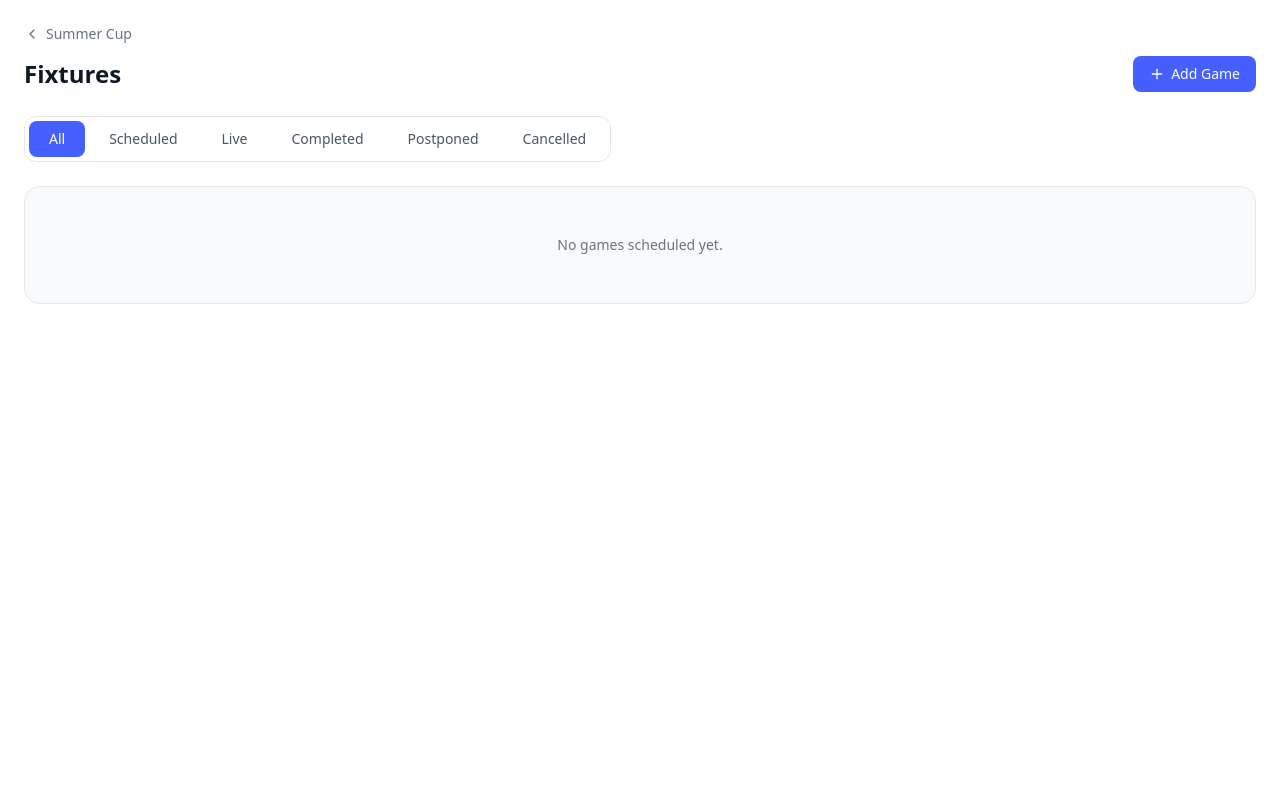
it: Fixtures: list › says there are no games scheduled yet, and Add Game opens the form
Expected: the text "No games scheduled yet." is shown, [557,235,723,254]
Click the button "Add Game". click: (1195, 74)
box: [1133,56,1256,92]
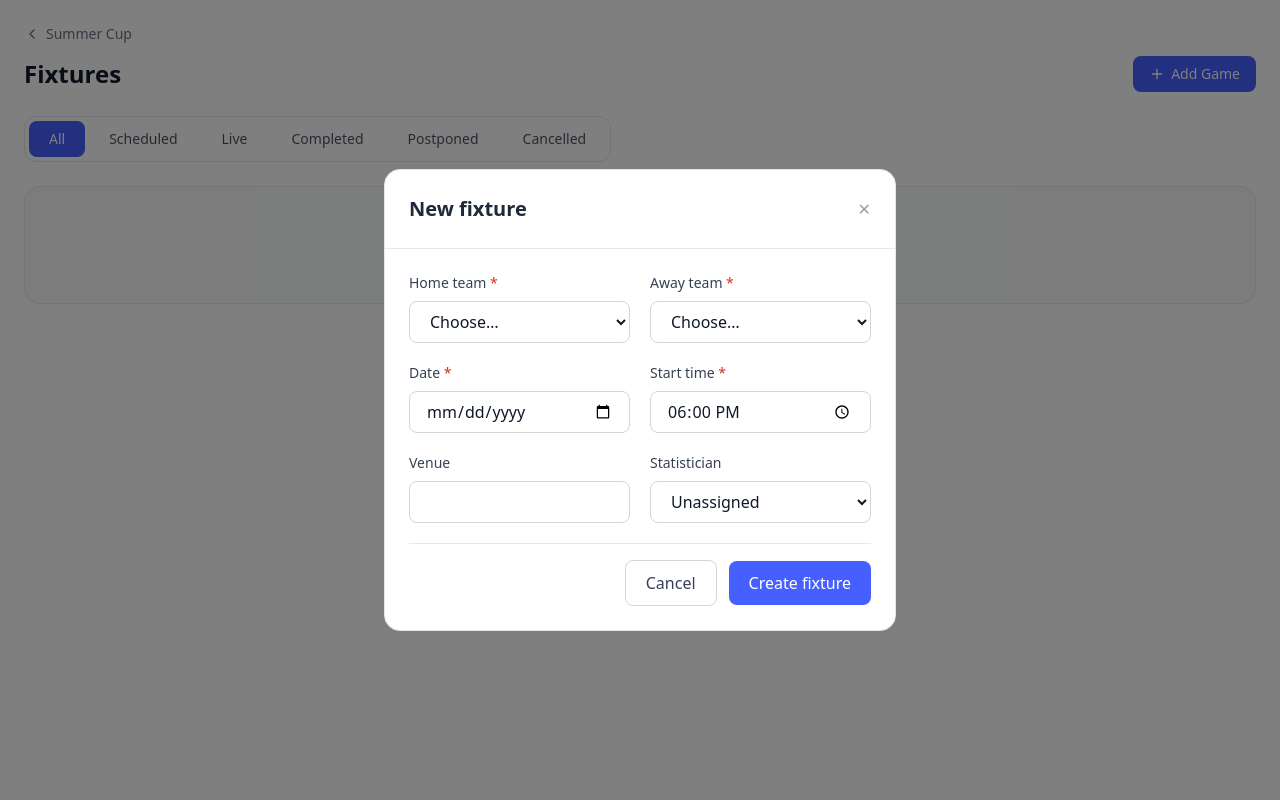
Expected: the dialog "New fixture" is shown, [384,169,896,631]
